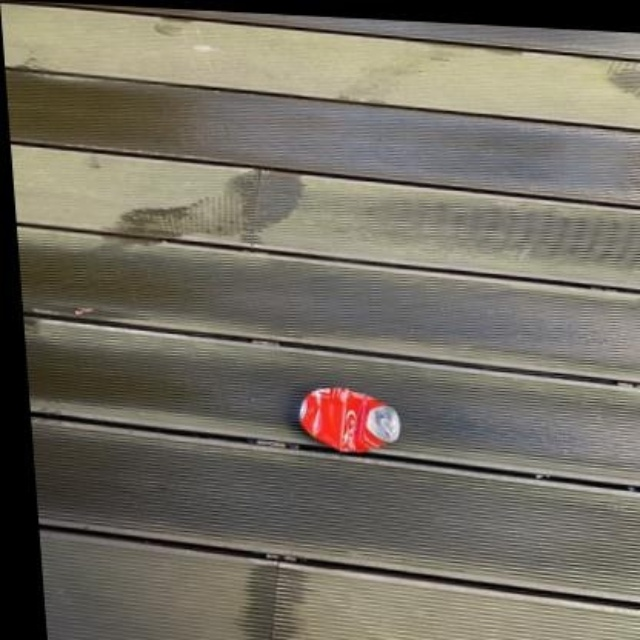trash: (300, 388, 400, 451)
